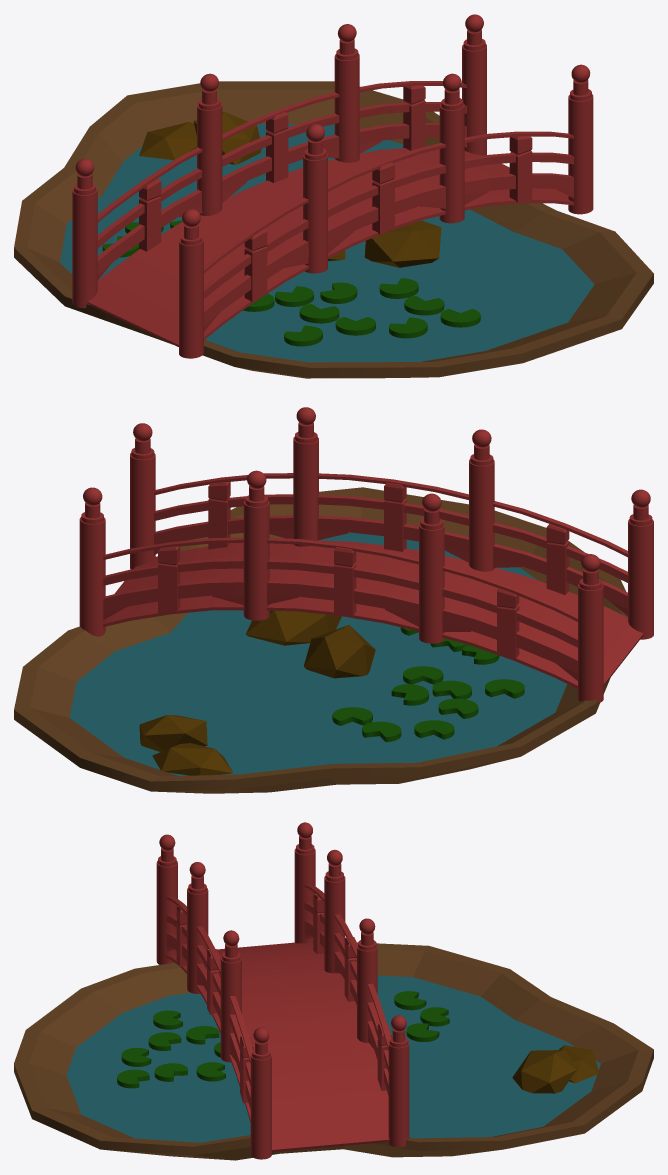
File: TT_Pond.fbx
3 renders of one model, top to bottom at view 1: azimuth 30°, elevation 25°; view 2: azimuth 150°, elevation 25°; view 3: azimuth 270°, elevation 25°, orthographic. The views are drawn at different scales.
Parts seen in each view (by area): view 1: Pond; view 2: Pond; view 3: Pond.
Part boxes in pixels (x1=…): Pond: x1=14, y1=14, x2=653, y2=378; Pond: x1=14, y1=407, x2=653, y2=793; Pond: x1=14, y1=822, x2=653, y2=1160.
Size of the model in its own units: 597 by 264 by 759.
